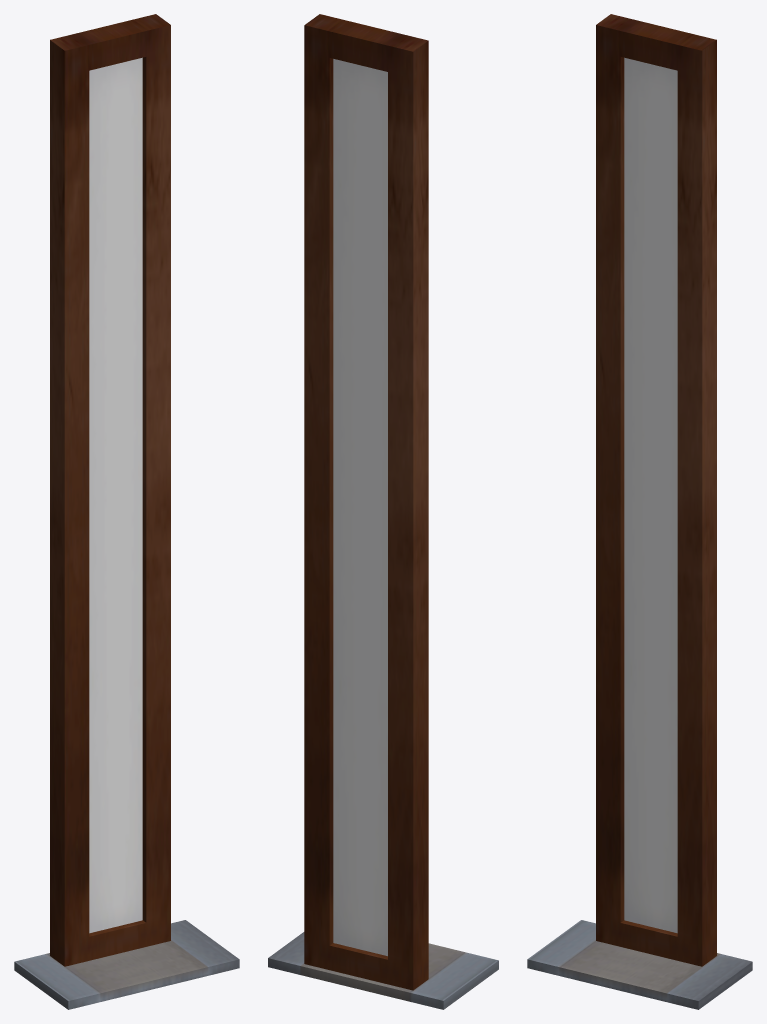
The model's file is Lamp4.fbx.
3 views of the same model, side by side, from view 1: azimuth 30°, elevation 25°; view 2: azimuth 150°, elevation 25°; view 3: azimuth 330°, elevation 25° (orthographic). The views are drawn at different scales.
Visible parts, largest first — view 1: Empty_Mesh; view 2: Empty_Mesh; view 3: Empty_Mesh.
Part boxes in pixels (x1,y1,x2,y2): Empty_Mesh: (14,14,239,1009); Empty_Mesh: (268,14,498,1009); Empty_Mesh: (527,14,752,1009).
Size of the model in its own units: 20.62 by 106 by 11.26.
